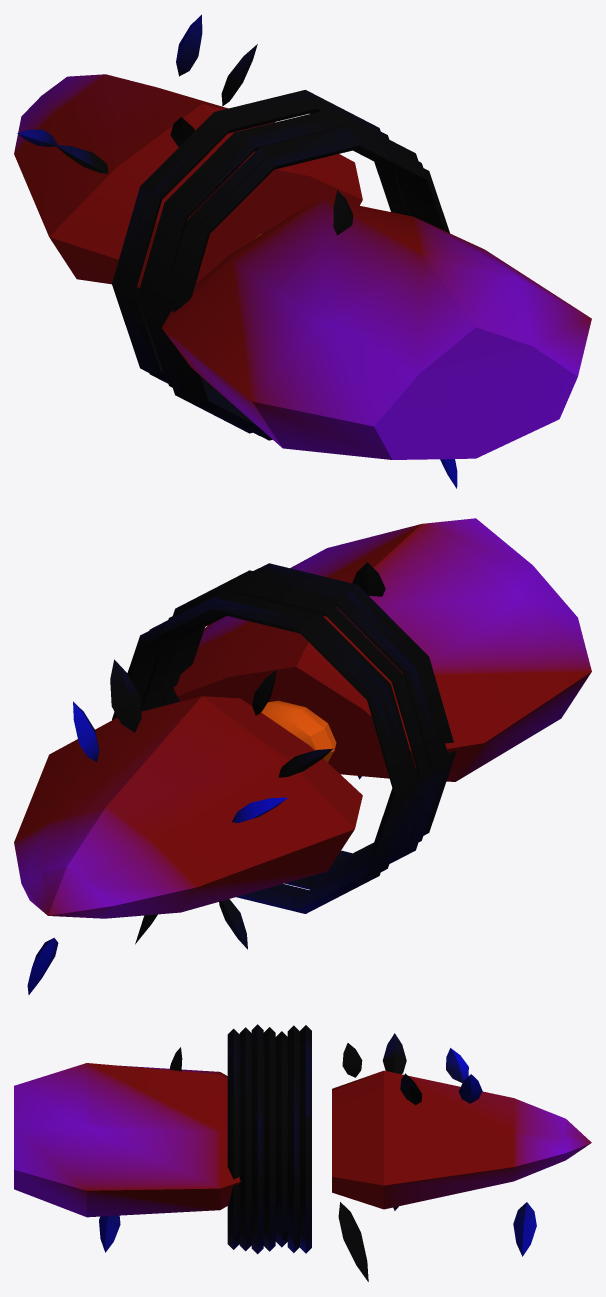
File: wreck_hulk_a.fbx
3 renders of one model, top to bottom at view 1: azimuth 30°, elevation 25°; view 2: azimuth 150°, elevation 25°; view 3: azimuth 270°, elevation 25°, orthographic. The views are drawn at different scales.
Visible parts, largest first — view 1: wreck_hulk_a; view 2: wreck_hulk_a; view 3: wreck_hulk_a.
Part boxes in pixels (x1,y1,x2,y2): wreck_hulk_a: [14, 14, 591, 488]; wreck_hulk_a: [14, 518, 591, 994]; wreck_hulk_a: [14, 1024, 591, 1281].
Bounding box in the file's own units: 1.1 × 0.997 × 2.4.
